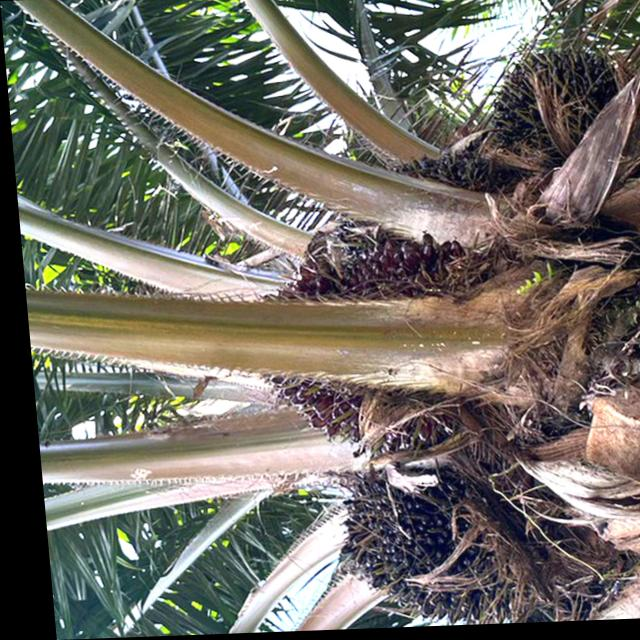ripe: (216, 219, 499, 463)
